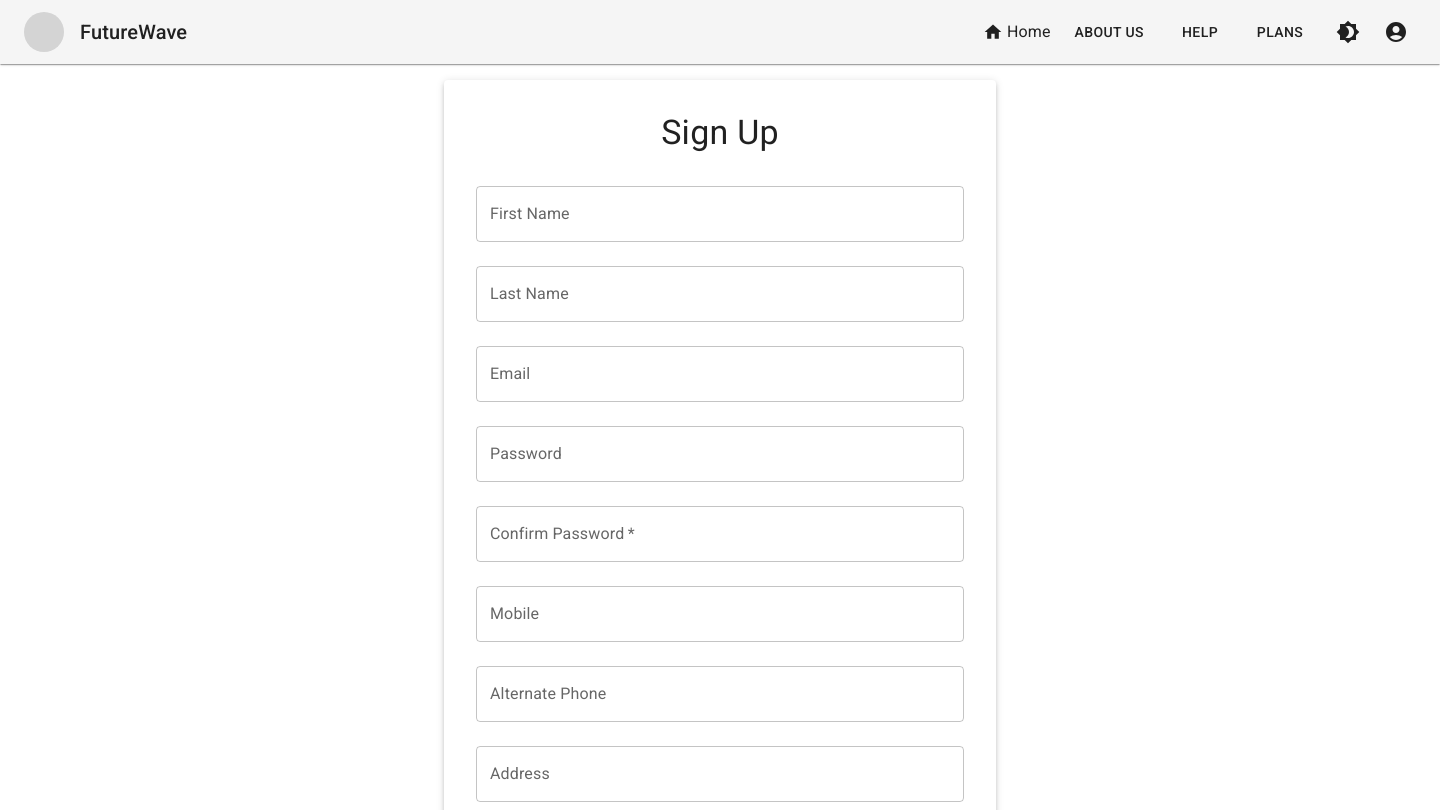
Scenario: Register Component › ensures alternate phone is different from mobile number
The width and height of the screenshot is (1440, 810).
Type "1234567890" into the field labelled "Mobile". click: (720, 614)
box: left=476, top=586, right=964, bottom=642
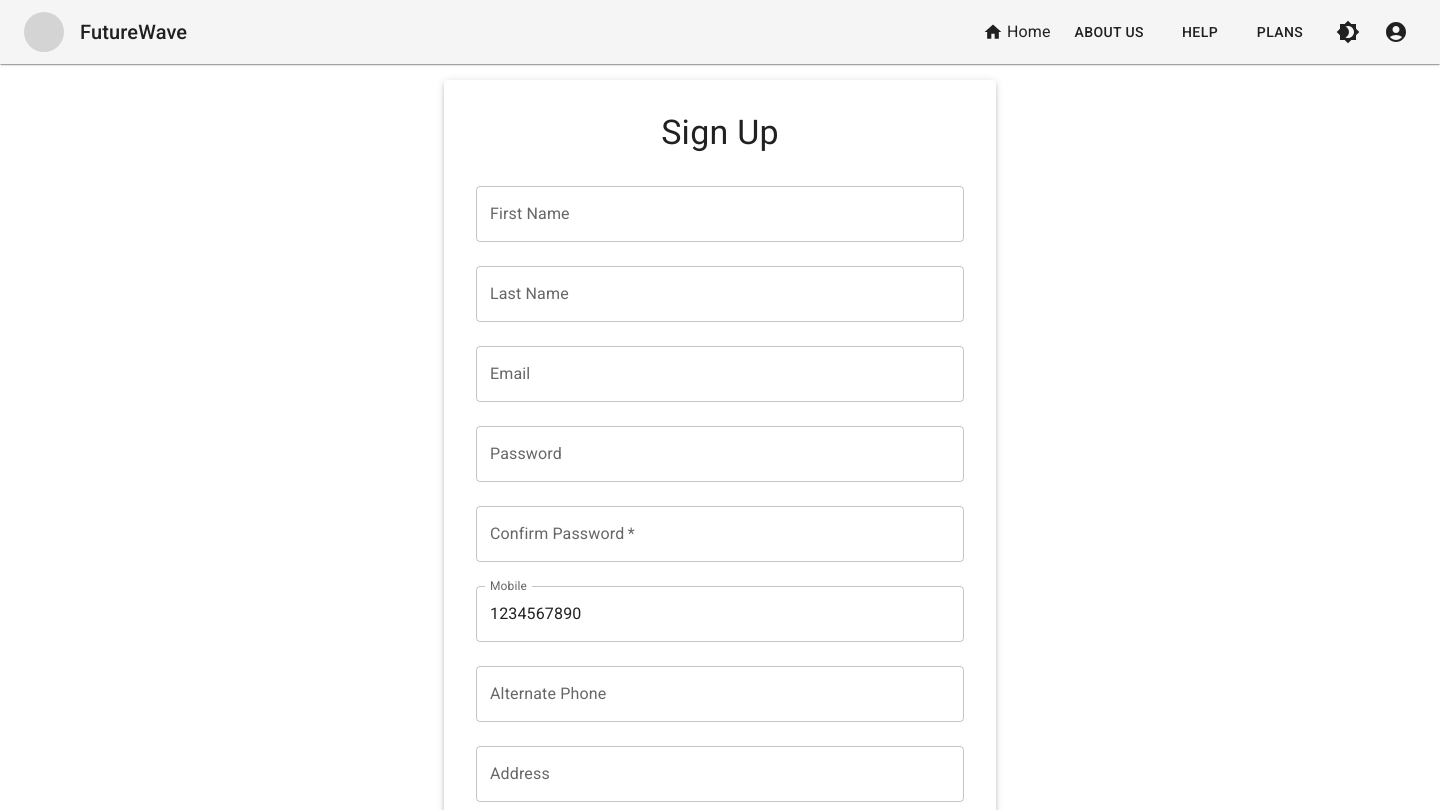
Type "1234567890" into the field labelled "Alternate Phone". click: (720, 694)
box: left=476, top=666, right=964, bottom=722
(page scrolled)
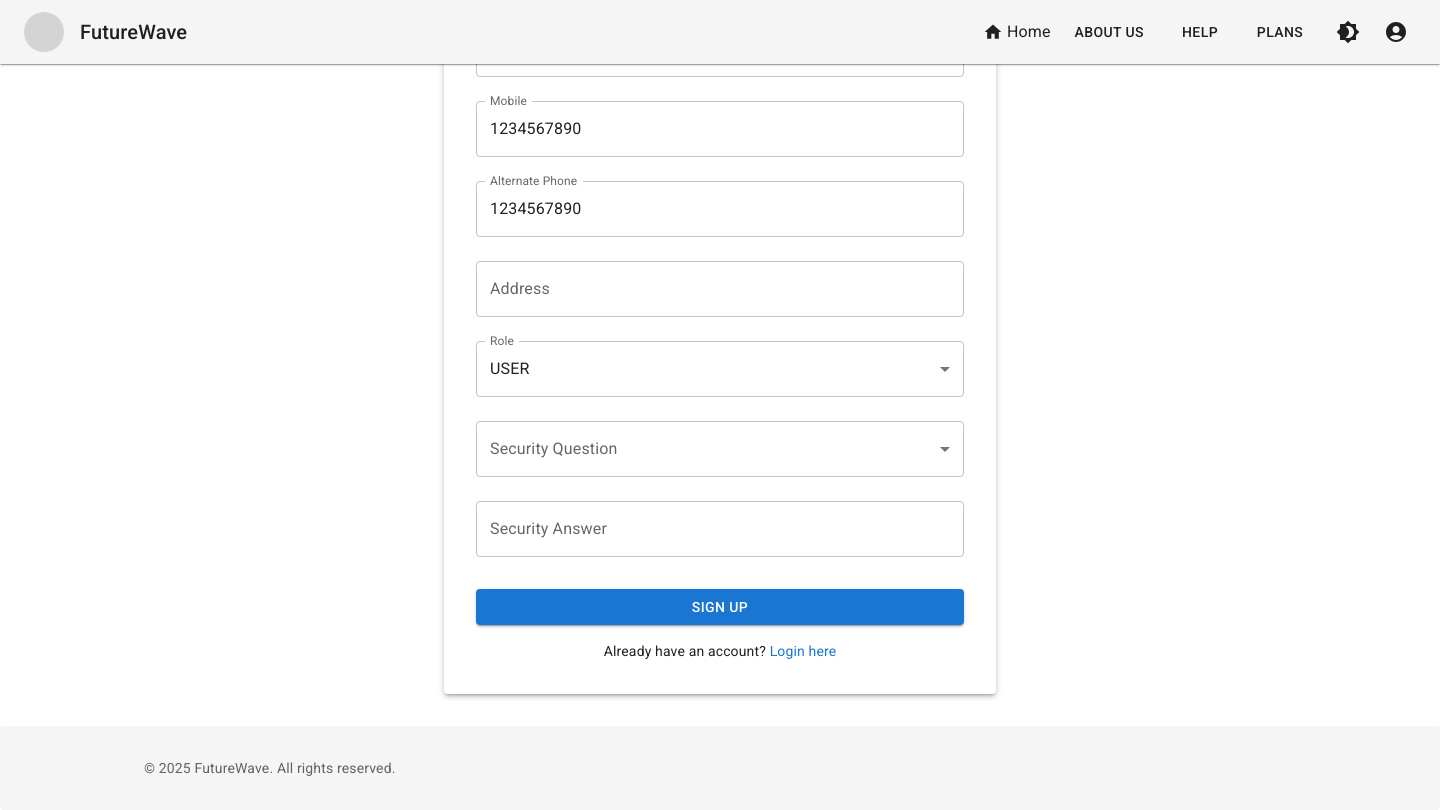
Click the button "Sign Up". click: (720, 607)
box: left=476, top=589, right=964, bottom=626
(page scrolled)
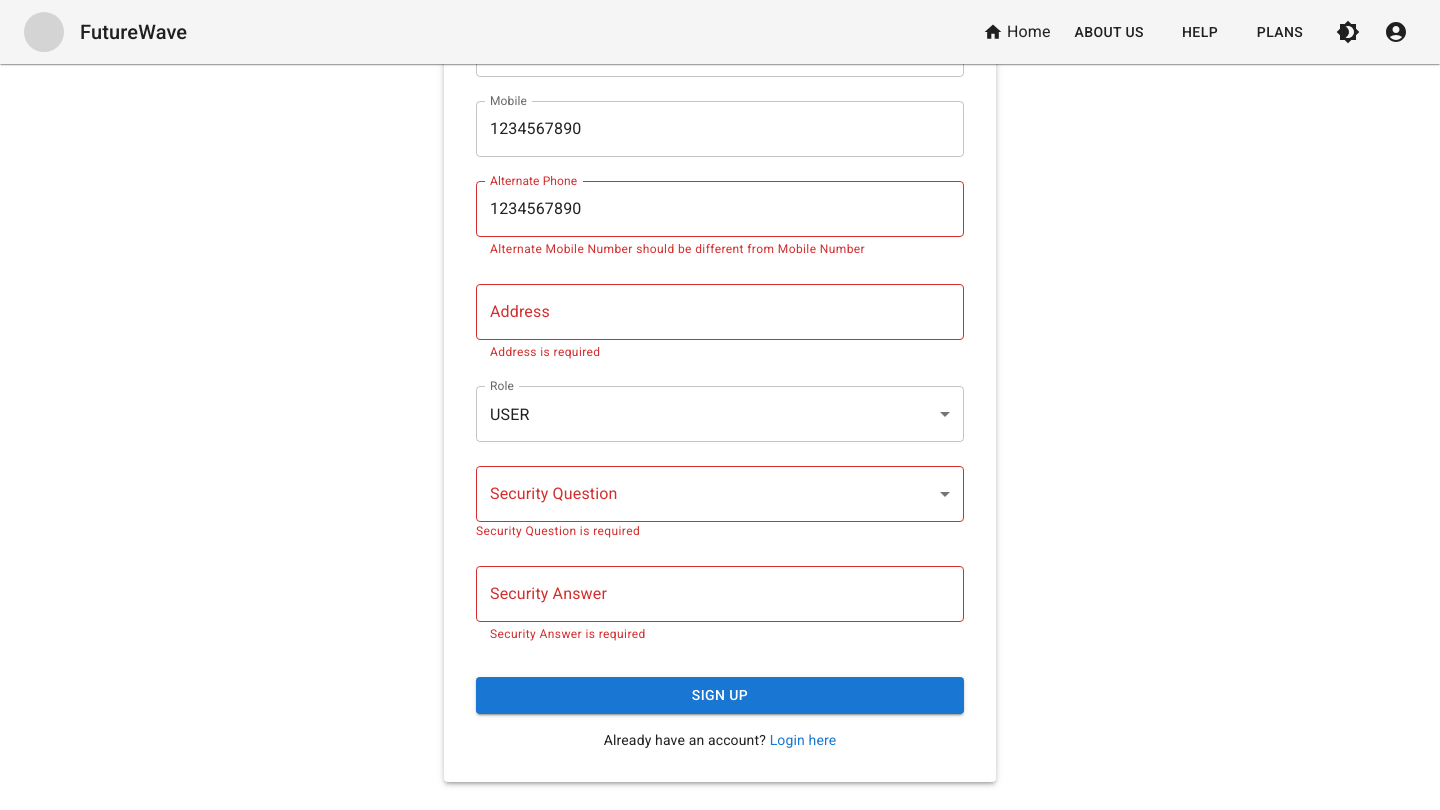
Expected: the text "Alternate Mobile Number should be different from Mobile Number" is shown, left=490, top=242, right=865, bottom=256
